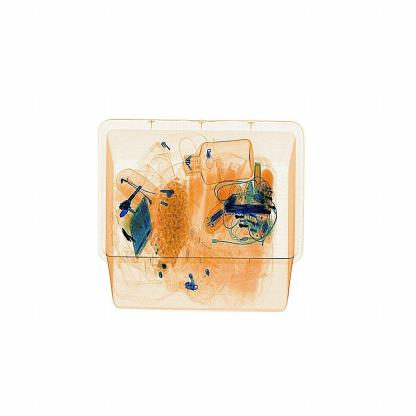scissors: (226, 193, 277, 229)
